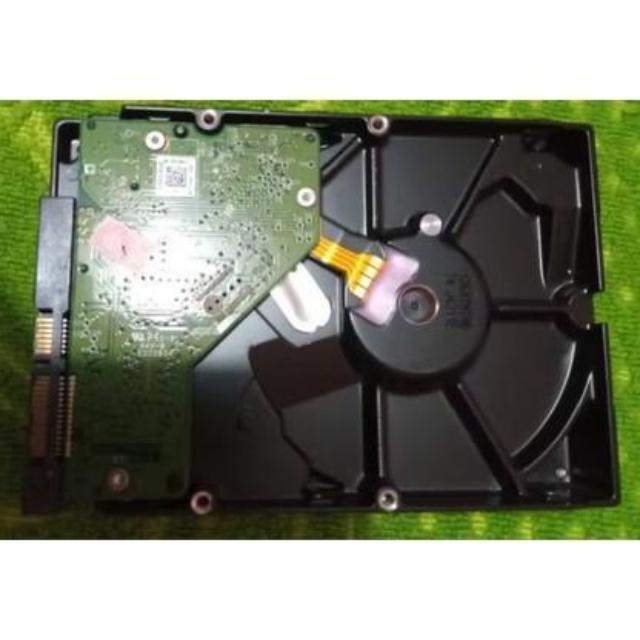DISK: (32, 100, 620, 514)
